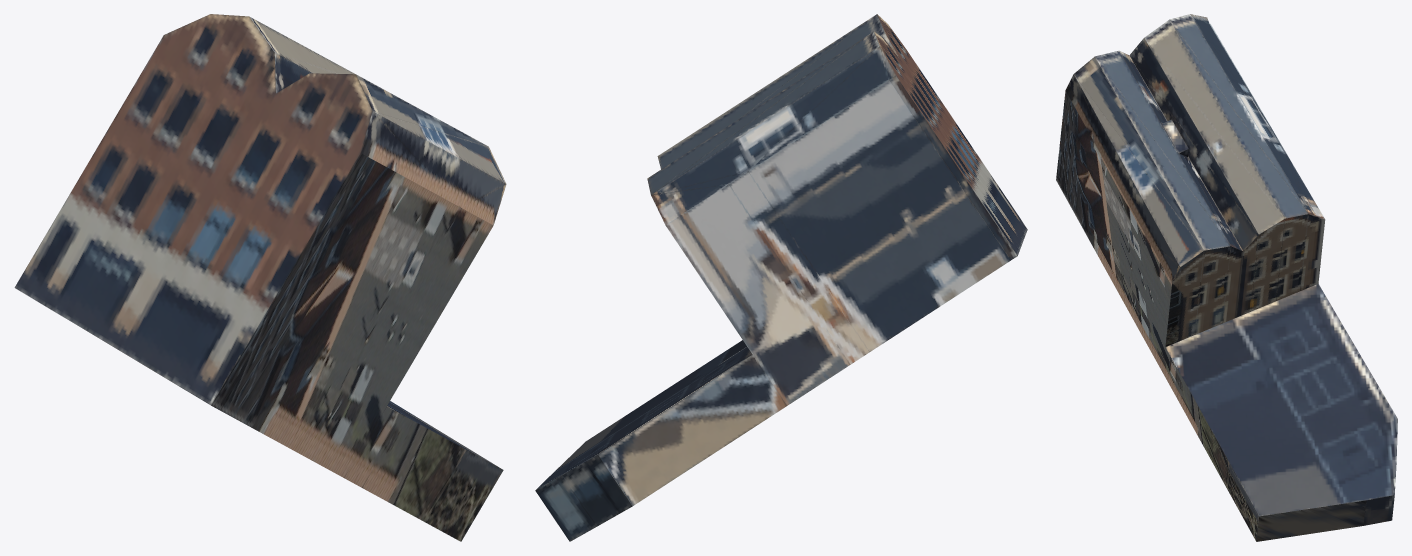
3 views of the same model, side by side, from view 1: azimuth 30°, elevation 25°; view 2: azimuth 150°, elevation 25°; view 3: azimuth 270°, elevation 25° (orthographic). The views are drawn at different scales.
Parts seen in each view (by area): view 1: BAG_0599100000656917 (×7); view 2: BAG_0599100000656917 (×6); view 3: BAG_0599100000656917 (×9).
Part boxes in pixels (x1,y1,x2,y2): BAG_0599100000656917 (×7): [14, 14, 506, 541]; BAG_0599100000656917 (×6): [535, 14, 1027, 541]; BAG_0599100000656917 (×9): [1056, 14, 1397, 541].
Size of the model in its own units: 23.74 by 27.16 by 19.5.
10 materials, 9 textured.
